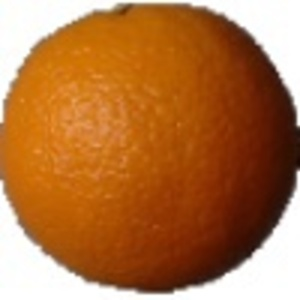laranja: (3, 2, 297, 299)
